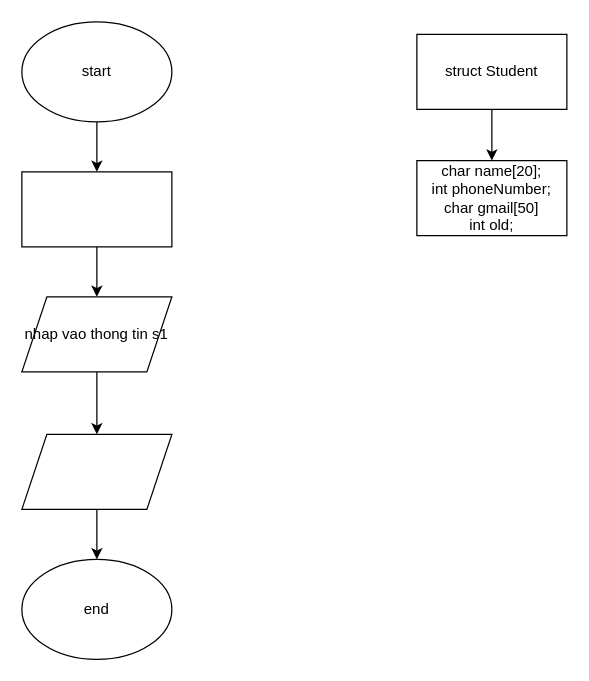
The diagram is 589 pixels wide and 681 high, and some of its shapes have lost their labels. Here are the shapes that lost their labels. From the top down, the centre of each, then its label:
At pixel 96 209: "struct Student S1".
At pixel 96 471: "in ra thong tin s1".
